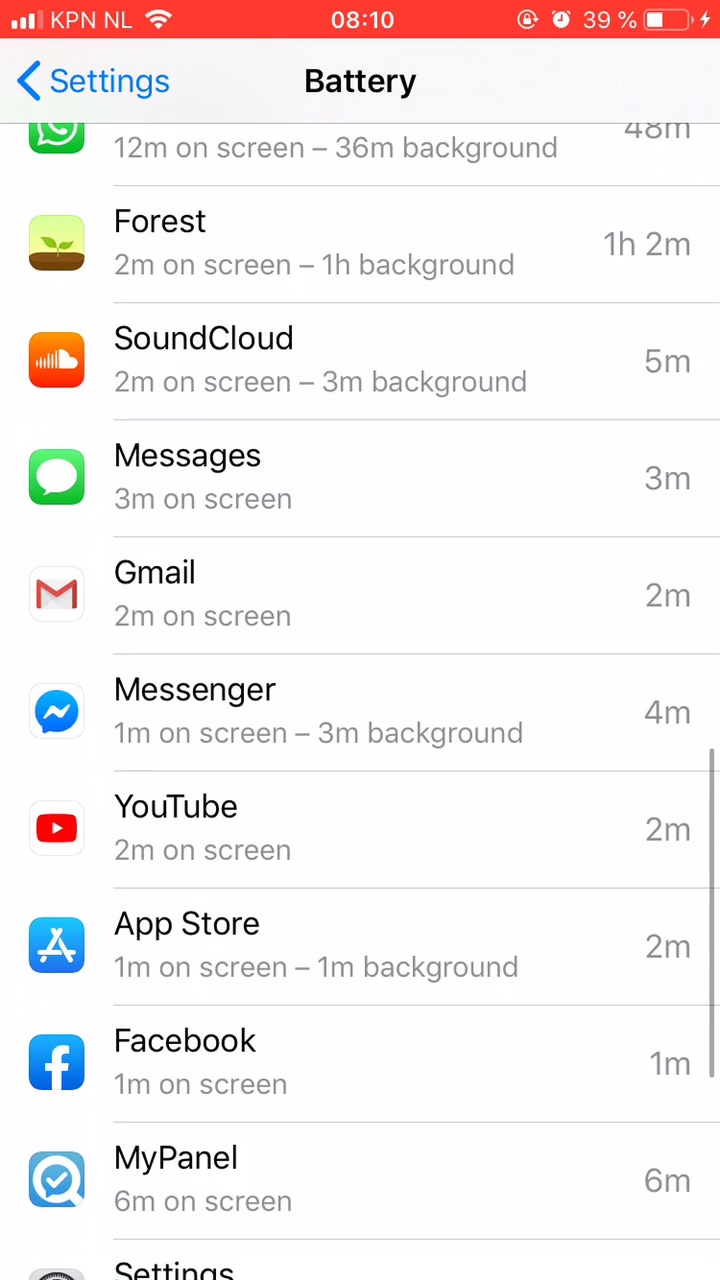app: (18, 194, 704, 287), (19, 307, 705, 400), (20, 421, 706, 514), (21, 546, 707, 639), (21, 672, 707, 765), (19, 781, 705, 874), (21, 896, 707, 989), (23, 1017, 709, 1110), (25, 1128, 711, 1221)
